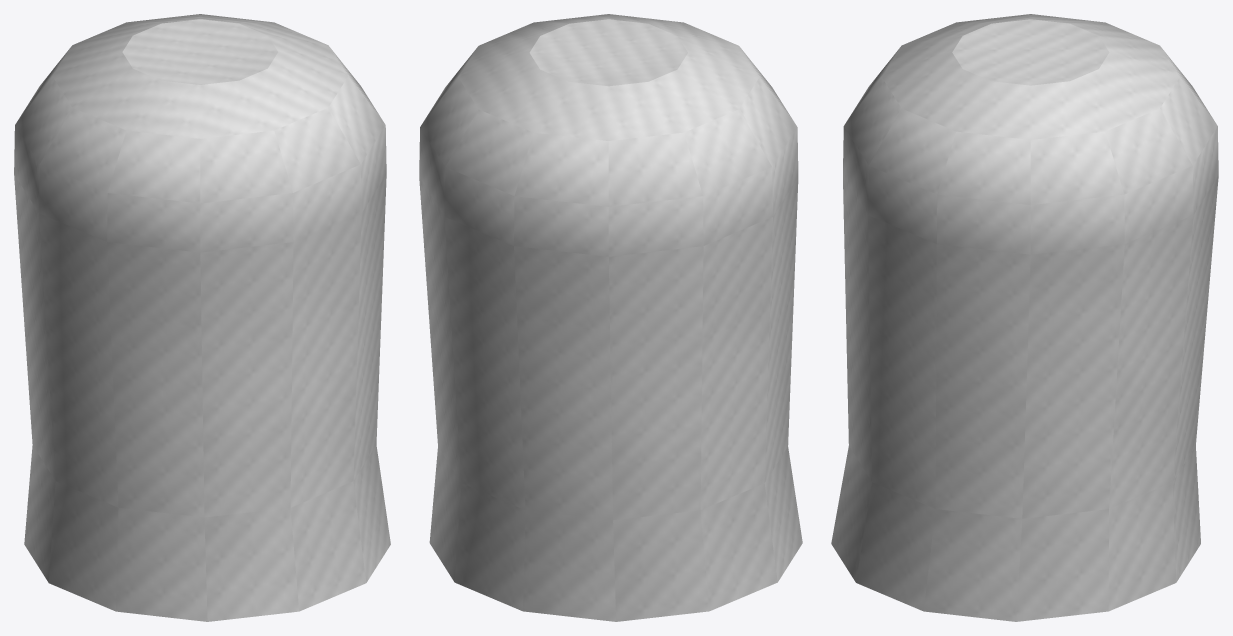
Rendered from shirt_tee_sleeve_r.glb.
3 renders of one model, left to right at view 1: azimuth 30°, elevation 25°; view 2: azimuth 150°, elevation 25°; view 3: azimuth 270°, elevation 25°, orthographic.
Visible parts, largest first — view 1: shirt_tee_sleeve_r; view 2: shirt_tee_sleeve_r; view 3: shirt_tee_sleeve_r.
Boxes of the visible parts, <box> form: shirt_tee_sleeve_r: <box>14,14,390,621</box>; shirt_tee_sleeve_r: <box>419,14,802,621</box>; shirt_tee_sleeve_r: <box>831,14,1218,621</box>.
Size of the model in its own units: 0.1387 by 0.2 by 0.143.
1 material, 1 textured.
